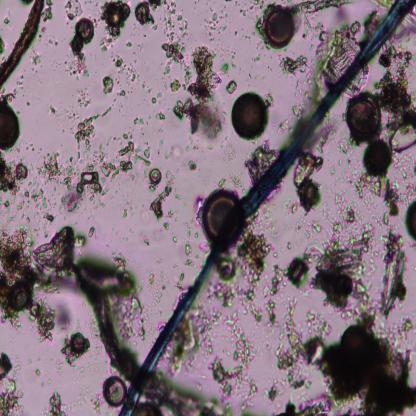Background material: (273, 200, 376, 372), (62, 114, 151, 217), (322, 326, 416, 416), (238, 225, 288, 324), (214, 314, 262, 416), (162, 300, 224, 378), (379, 43, 416, 155), (308, 17, 358, 84), (0, 226, 41, 306), (377, 230, 411, 318), (170, 44, 220, 99), (32, 224, 83, 275), (103, 50, 140, 116), (32, 147, 64, 222), (172, 96, 226, 140), (351, 172, 400, 217), (162, 0, 190, 72), (116, 288, 150, 342), (346, 92, 382, 140), (0, 351, 26, 415), (390, 148, 416, 206), (290, 149, 330, 186), (334, 155, 371, 194), (28, 289, 54, 343), (151, 168, 179, 218), (272, 393, 332, 416), (203, 0, 237, 40), (243, 142, 278, 180), (317, 122, 356, 156), (0, 154, 32, 194), (102, 0, 130, 43), (83, 306, 105, 360), (60, 330, 93, 366), (145, 264, 171, 308), (0, 194, 40, 222), (387, 309, 416, 346), (66, 35, 89, 80), (297, 177, 323, 215), (348, 7, 376, 39), (163, 145, 199, 169), (395, 1, 416, 42), (256, 206, 281, 238), (282, 51, 310, 79), (344, 69, 370, 98), (52, 298, 75, 330), (292, 79, 322, 103), (134, 0, 157, 28), (284, 370, 313, 392), (210, 285, 236, 309), (43, 394, 68, 416), (217, 134, 239, 158), (0, 303, 19, 330), (265, 376, 284, 400), (113, 244, 128, 274), (368, 208, 390, 228), (237, 0, 263, 16), (75, 87, 94, 108), (133, 402, 161, 416), (70, 390, 88, 410), (289, 100, 305, 122), (275, 114, 292, 134), (42, 0, 56, 23), (27, 50, 43, 70), (66, 2, 83, 20), (74, 229, 88, 250), (0, 86, 13, 108), (92, 391, 103, 415), (63, 105, 79, 121), (254, 13, 265, 36), (230, 172, 244, 190), (283, 199, 299, 214), (53, 355, 64, 376), (182, 218, 193, 236), (371, 0, 390, 10), (227, 79, 237, 97), (145, 0, 162, 10), (141, 208, 151, 225), (101, 38, 113, 52), (183, 256, 197, 268), (16, 73, 25, 91), (192, 377, 202, 393), (47, 36, 60, 48), (151, 90, 163, 103), (301, 25, 311, 40), (263, 94, 273, 108), (158, 136, 166, 153), (220, 60, 230, 73), (162, 218, 172, 230), (0, 36, 6, 56), (75, 366, 85, 378), (2, 14, 10, 28), (25, 142, 36, 152), (49, 106, 58, 118), (143, 232, 150, 247), (147, 182, 157, 192), (133, 44, 143, 54), (251, 54, 262, 63), (183, 240, 190, 254), (219, 175, 227, 187), (92, 16, 100, 28), (18, 0, 34, 6), (156, 112, 166, 121), (243, 32, 251, 43), (88, 227, 95, 239), (266, 340, 272, 352), (172, 235, 180, 244), (166, 209, 174, 218), (173, 192, 182, 200), (34, 366, 40, 377), (207, 142, 214, 151), (230, 51, 237, 60), (177, 280, 183, 290), (180, 270, 186, 280), (329, 166, 336, 174), (40, 25, 47, 32), (230, 62, 236, 70), (309, 44, 315, 52), (126, 40, 132, 48), (27, 357, 33, 365), (266, 65, 273, 71), (46, 378, 52, 385), (103, 243, 110, 249), (142, 81, 147, 89), (143, 30, 148, 37), (38, 32, 42, 40), (233, 30, 238, 36), (125, 236, 130, 242), (39, 382, 45, 387), (26, 101, 31, 106), (158, 128, 164, 132), (128, 227, 132, 233), (175, 216, 178, 223), (148, 115, 151, 120), (196, 232, 198, 239)
Cellulose filter fibre: (70, 256, 227, 416), (0, 0, 43, 95), (296, 0, 350, 15)
Cotton: (121, 0, 415, 416)
Diatom: (203, 188, 245, 248), (228, 91, 269, 142), (339, 324, 376, 366), (260, 6, 295, 50), (359, 138, 394, 176), (0, 107, 23, 149), (102, 376, 126, 406), (75, 16, 97, 42), (216, 254, 238, 280), (402, 199, 416, 239), (9, 282, 29, 309), (149, 168, 162, 183)
